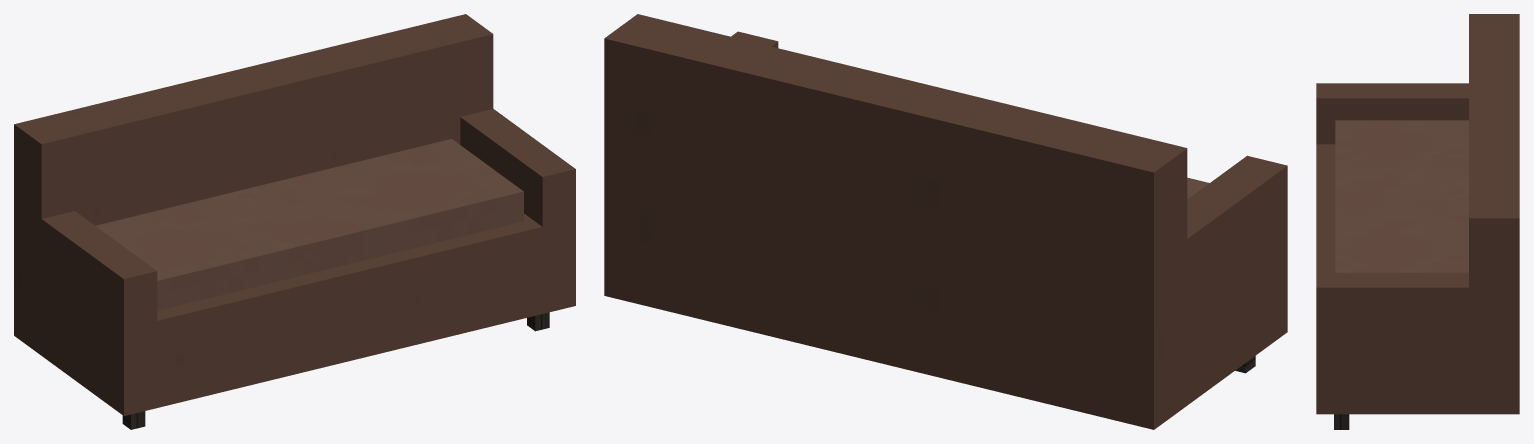
Rendered from sofa_01.glb.
3 renders of one model, left to right at view 1: azimuth 30°, elevation 25°; view 2: azimuth 150°, elevation 25°; view 3: azimuth 270°, elevation 25°, orthographic. The views are drawn at different scales.
Parts seen in each view (by area): view 1: sofa_01; view 2: sofa_01; view 3: sofa_01.
Boxes of the visible parts, left/top/right/bottom form: sofa_01: left=14, top=14, right=575, bottom=429; sofa_01: left=604, top=14, right=1287, bottom=429; sofa_01: left=1316, top=14, right=1519, bottom=429.
Size of the model in its own units: 1.9 by 0.95 by 0.8.
Materials: 3 (3 with a texture image).
